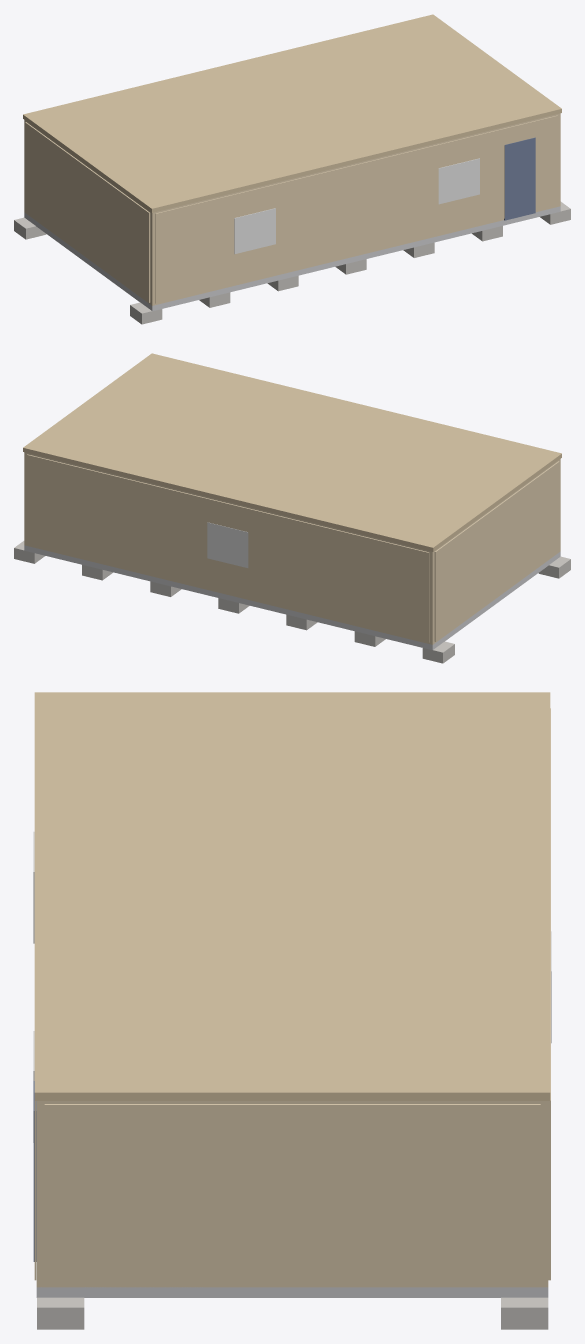
The model's file is Studio-40-Base-LightBrownSand-LOD3.glb.
3 renders of one model, top to bottom at view 1: azimuth 30°, elevation 25°; view 2: azimuth 150°, elevation 25°; view 3: azimuth 270°, elevation 25°, orthographic. The views are drawn at different scales.
Parts seen in each view (by area): view 1: RoofMain, ExteriorPanelsStandard, BaseFrame, WindowsStandard, ExteriorShell, FoundationBlocks, EntryDoor; view 2: RoofMain, ExteriorPanelsStandard, BaseFrame, ExteriorShell, FoundationBlocks, WindowsStandard; view 3: RoofMain, ExteriorPanelsStandard, ExteriorShell, BaseFrame, FoundationBlocks.
Part boxes in pixels (left/top/right/bottom): RoofMain: left=23, top=14, right=561, bottom=212; ExteriorPanelsStandard: left=25, top=115, right=557, bottom=303; BaseFrame: left=24, top=206, right=560, bottom=311; WindowsStandard: left=234, top=158, right=479, bottom=254; ExteriorShell: left=24, top=113, right=560, bottom=305; FoundationBlocks: left=14, top=201, right=570, bottom=324; EntryDoor: left=504, top=137, right=535, bottom=220; RoofMain: left=23, top=353, right=561, bottom=551; ExteriorPanelsStandard: left=27, top=454, right=559, bottom=642; BaseFrame: left=24, top=545, right=560, bottom=650; ExteriorShell: left=24, top=452, right=560, bottom=644; FoundationBlocks: left=14, top=541, right=570, bottom=663; WindowsStandard: left=207, top=522, right=248, bottom=567; RoofMain: left=34, top=692, right=550, bottom=1100; ExteriorPanelsStandard: left=34, top=708, right=550, bottom=1284; ExteriorShell: left=36, top=1101, right=548, bottom=1287; BaseFrame: left=36, top=1287, right=548, bottom=1297; FoundationBlocks: left=37, top=1297, right=548, bottom=1329.
Size of the model in its own units: 12.49 by 3.17 by 6.53.
